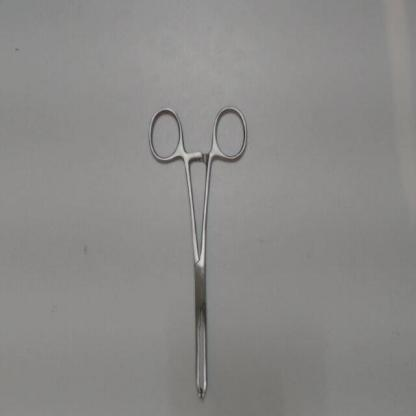Allis Tissue Forceps: (141, 99, 256, 407)
